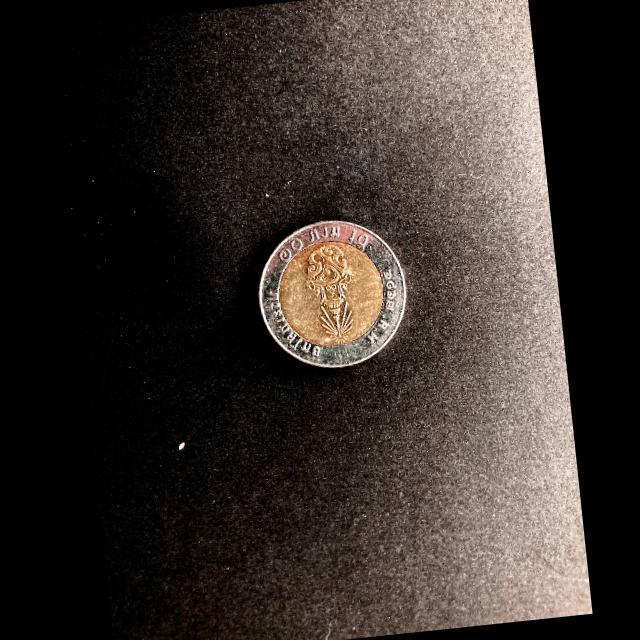10 Bath: (260, 218, 407, 371)
